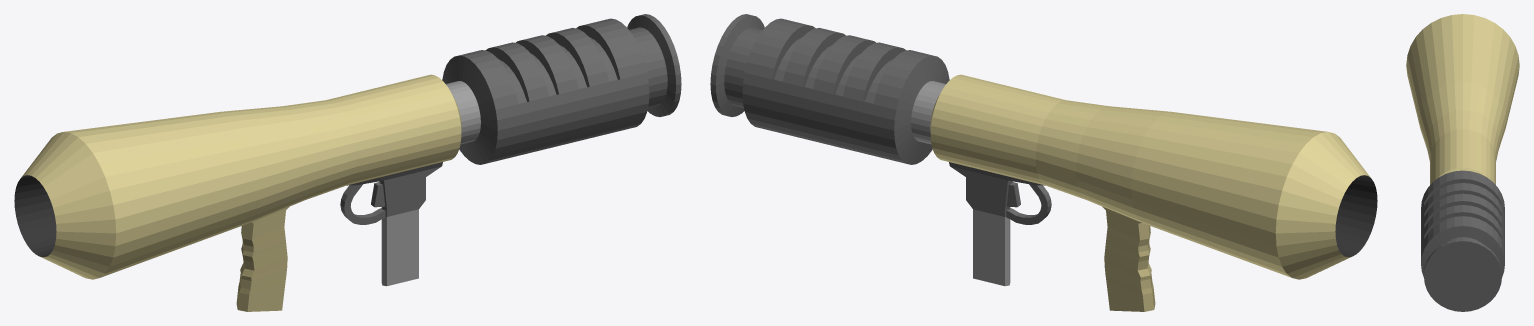
Rendered from rocketlauncher.fbx.
The picture shows the model from 3 angles, left to right: view 1: azimuth 30°, elevation 25°; view 2: azimuth 150°, elevation 25°; view 3: azimuth 270°, elevation 25°; orthographic projection. The views are drawn at different scales.
Parts seen in each view (by area): view 1: Rocket Launcher; view 2: Rocket Launcher; view 3: Rocket Launcher.
Boxes of the visible parts, box(x1,y1,x2,y2) form: Rocket Launcher: box(14, 14, 681, 311); Rocket Launcher: box(710, 14, 1377, 311); Rocket Launcher: box(1406, 14, 1519, 311).
Bounding box in the file's own units: 1623 × 557 × 343.
1 material, 1 textured.
